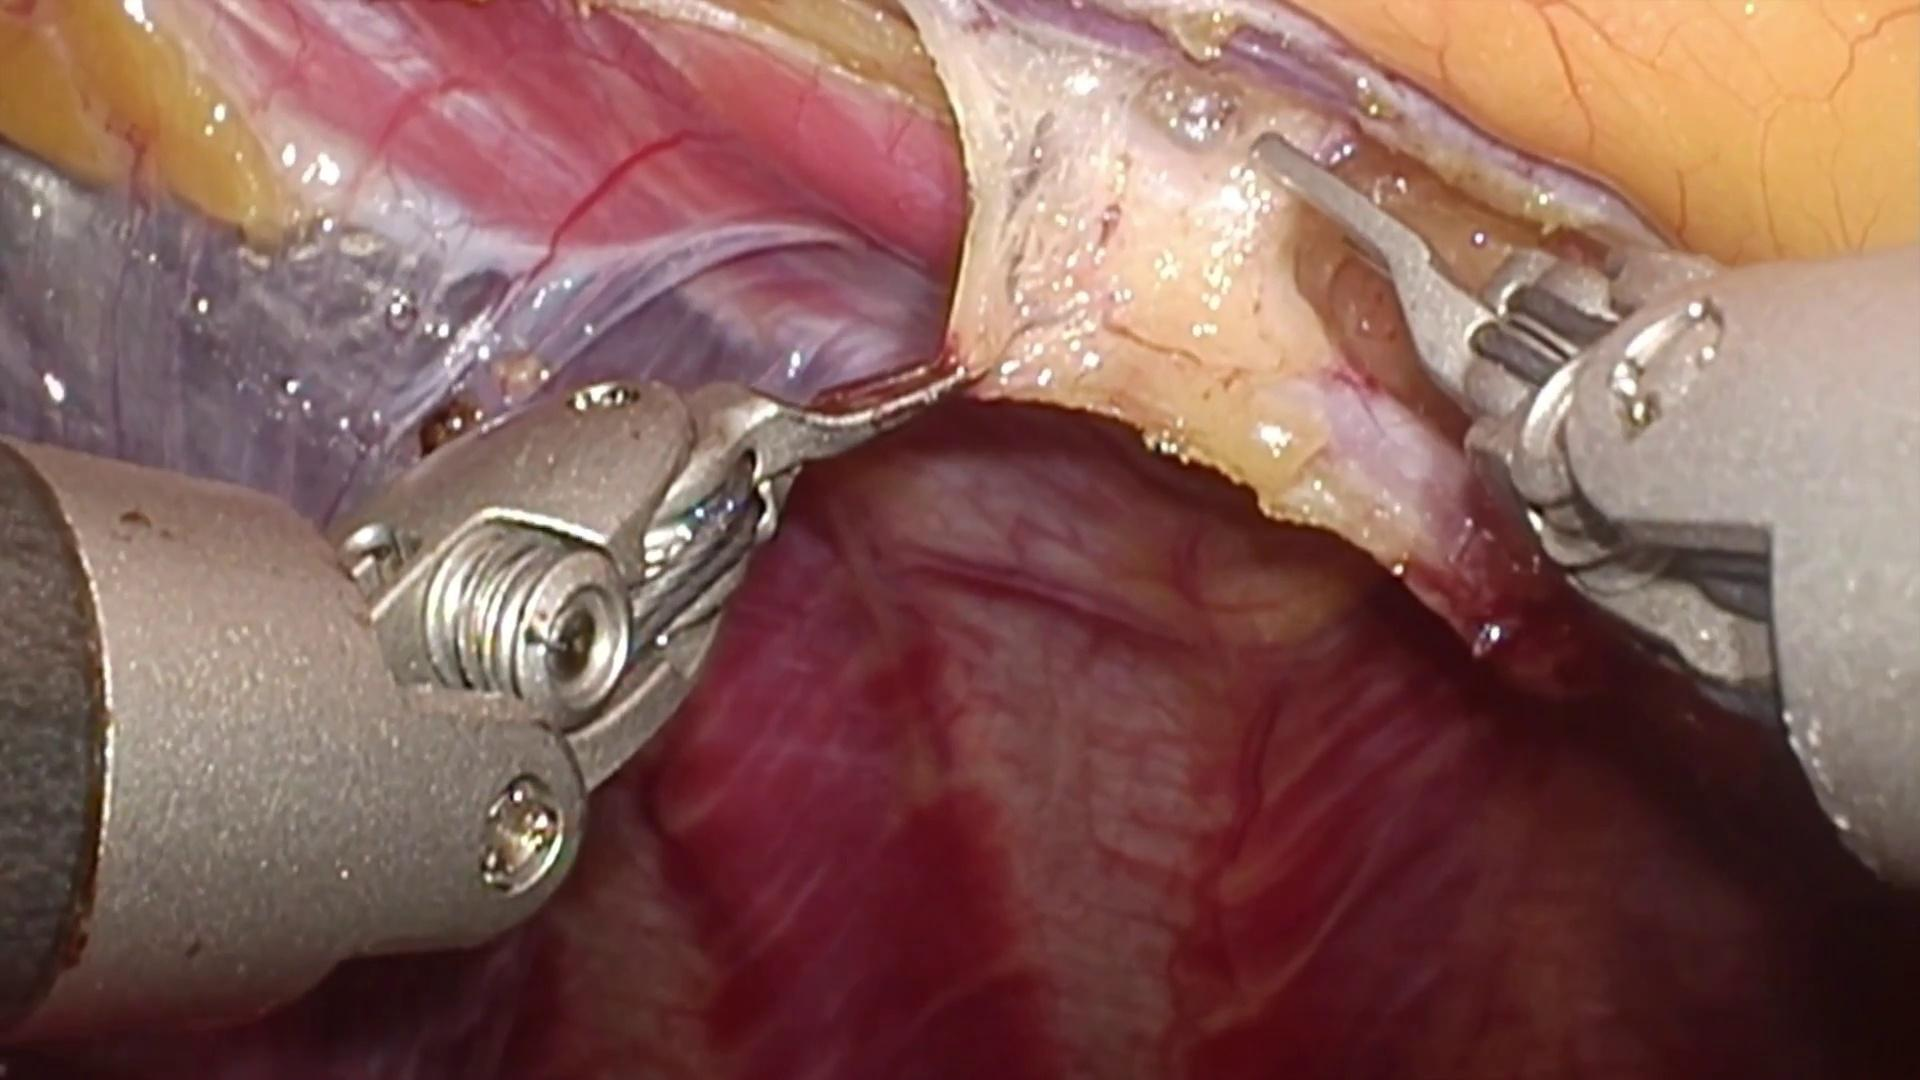Debakey: (682, 352, 980, 522)
clipper: (1247, 132, 1656, 535)
